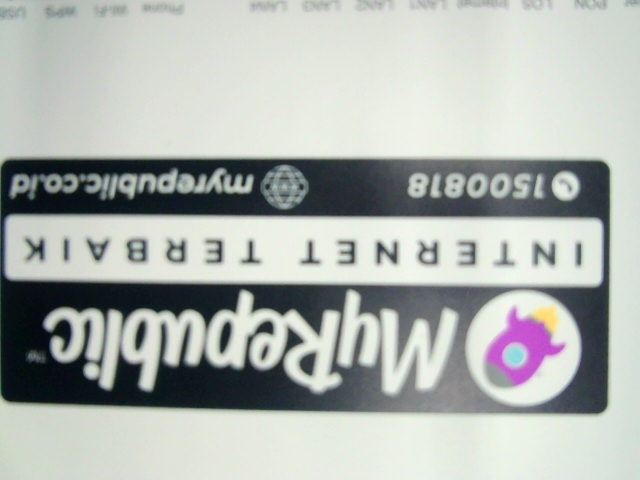BD_MyRepublic: (3, 130, 621, 416)
